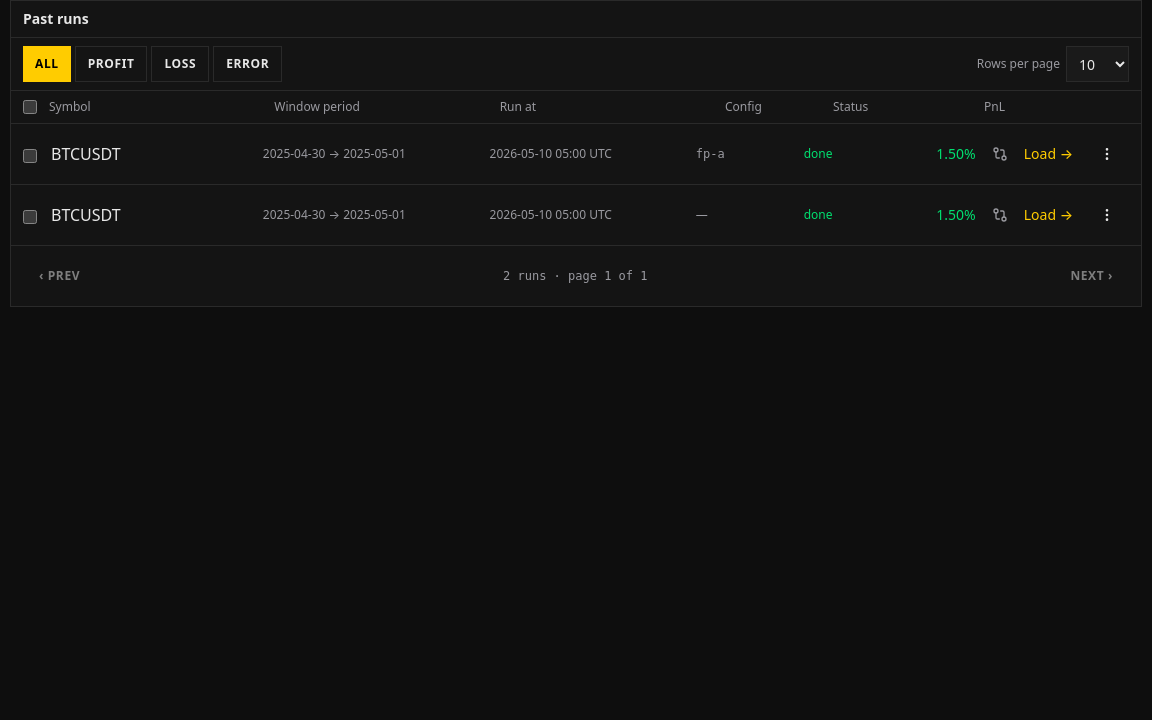
Test: past runs: picking two runs to compare their configs › offers the pick on a run with no fingerprint, so the unavailable answer is reachable
This screenshot has width=1152, height=720.
Click the button named "Compare config of BTCUSDT run a1111111 from 2026-05-10 05:00" at (1000, 154), box [988,142,1012,166]
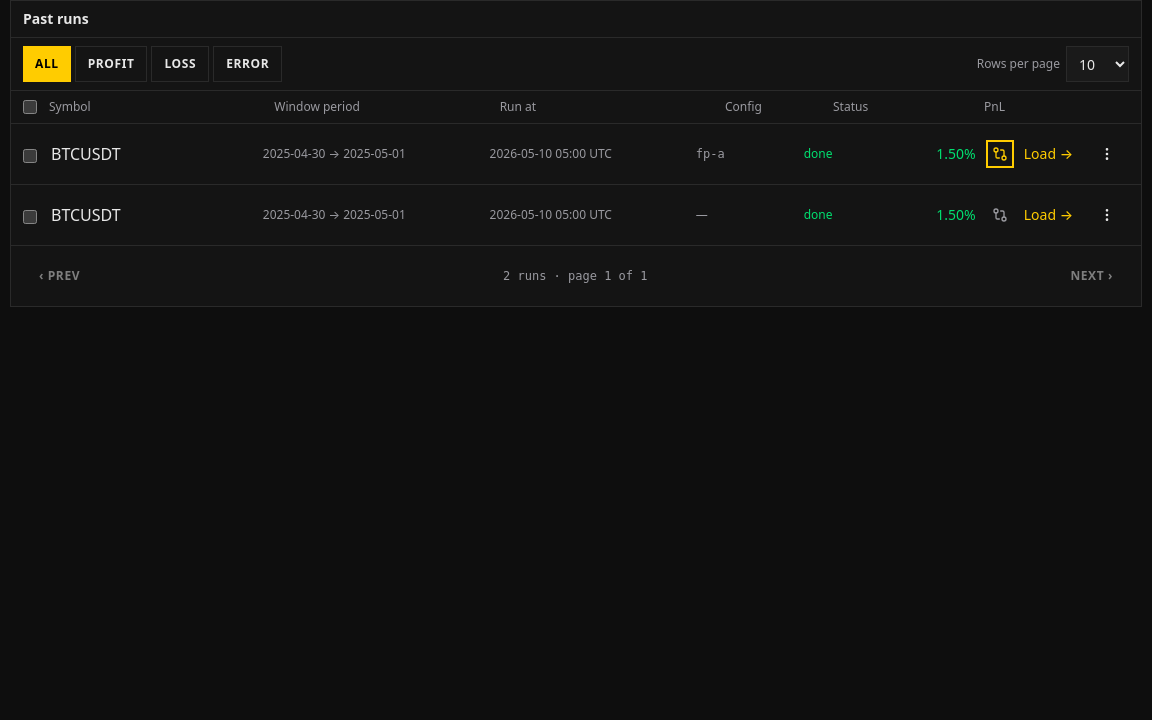
Click the button named "Compare config of BTCUSDT run a2222222 from 2026-05-10 05:00" at (1000, 215), box [988,203,1012,227]
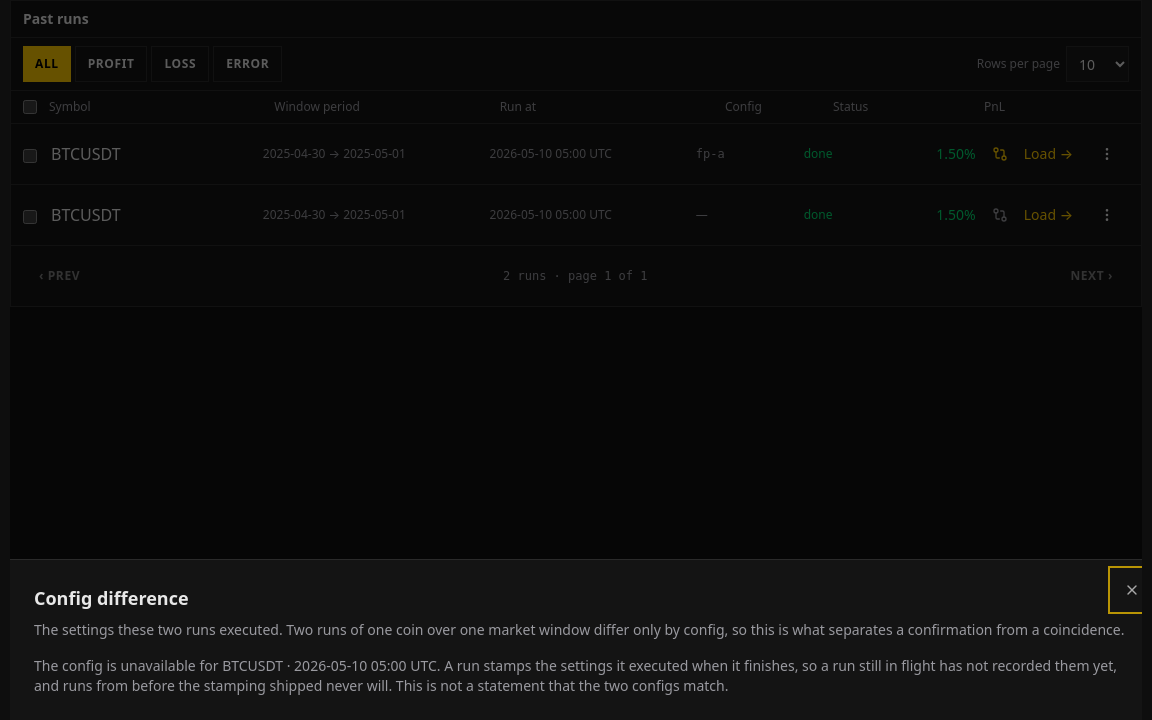
Check: the dialog with test id "backtest-config-compare-sheet" shows "config is unavailable", box [34,656,222,675]
